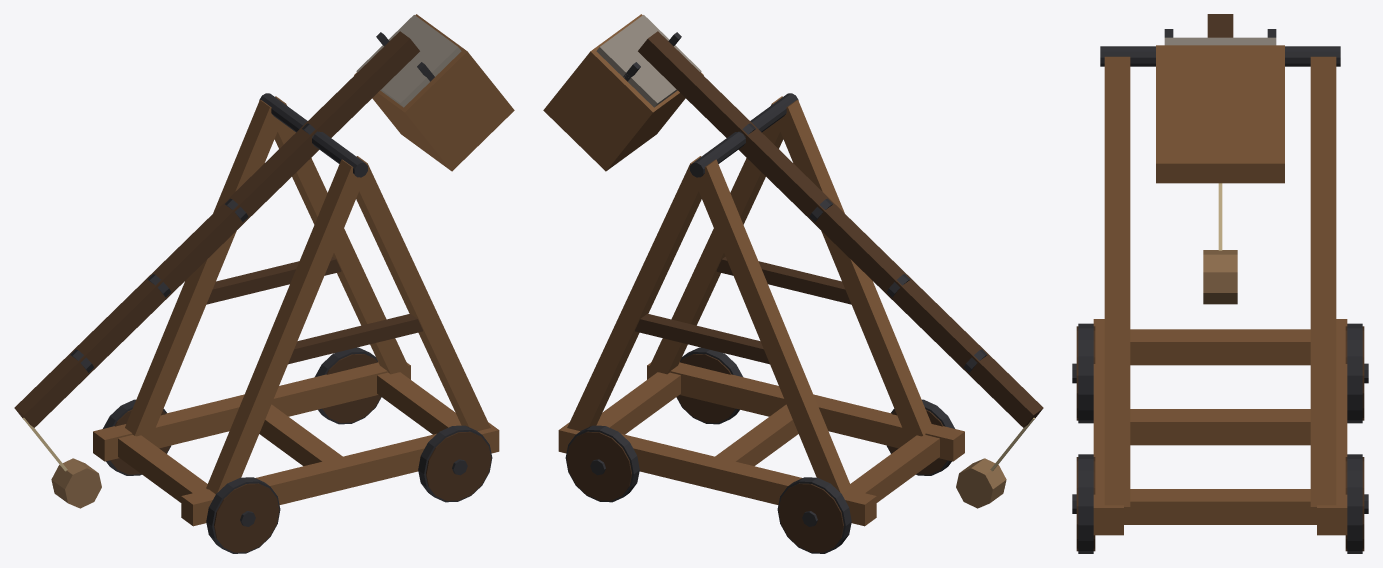
Rendered from manjaniq.glb.
The picture shows the model from 3 angles, left to right: view 1: azimuth 30°, elevation 25°; view 2: azimuth 150°, elevation 25°; view 3: azimuth 270°, elevation 25°; orthographic projection. The views are drawn at different scales.
Visible parts, largest first — view 1: Body, Arm; view 2: Body, Arm; view 3: Body, Arm.
Boxes of the visible parts, box(x1,y1,x2,y2) form: Body: box(93, 93, 499, 553); Arm: box(14, 14, 514, 508); Body: box(558, 93, 964, 553); Arm: box(543, 14, 1043, 508); Body: box(1072, 46, 1368, 553); Arm: box(1156, 14, 1284, 304).
Size of the model in its own units: 7.98 by 6.9 by 3.45.
